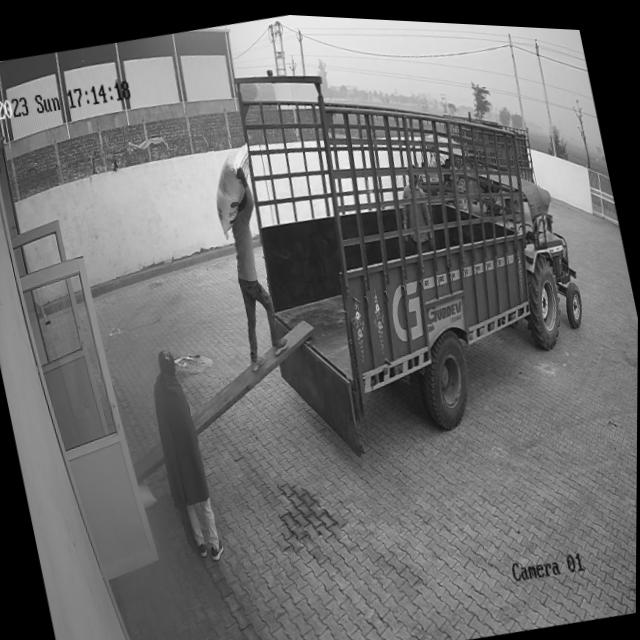sack: (204, 138, 265, 238)
